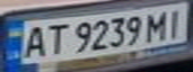2: (90, 16, 112, 52)
3: (109, 15, 130, 49)
9: (69, 18, 93, 54), (124, 12, 148, 46)
A: (18, 22, 51, 58)
I: (160, 4, 190, 38)
M: (142, 8, 172, 42)
T: (39, 20, 69, 56)
